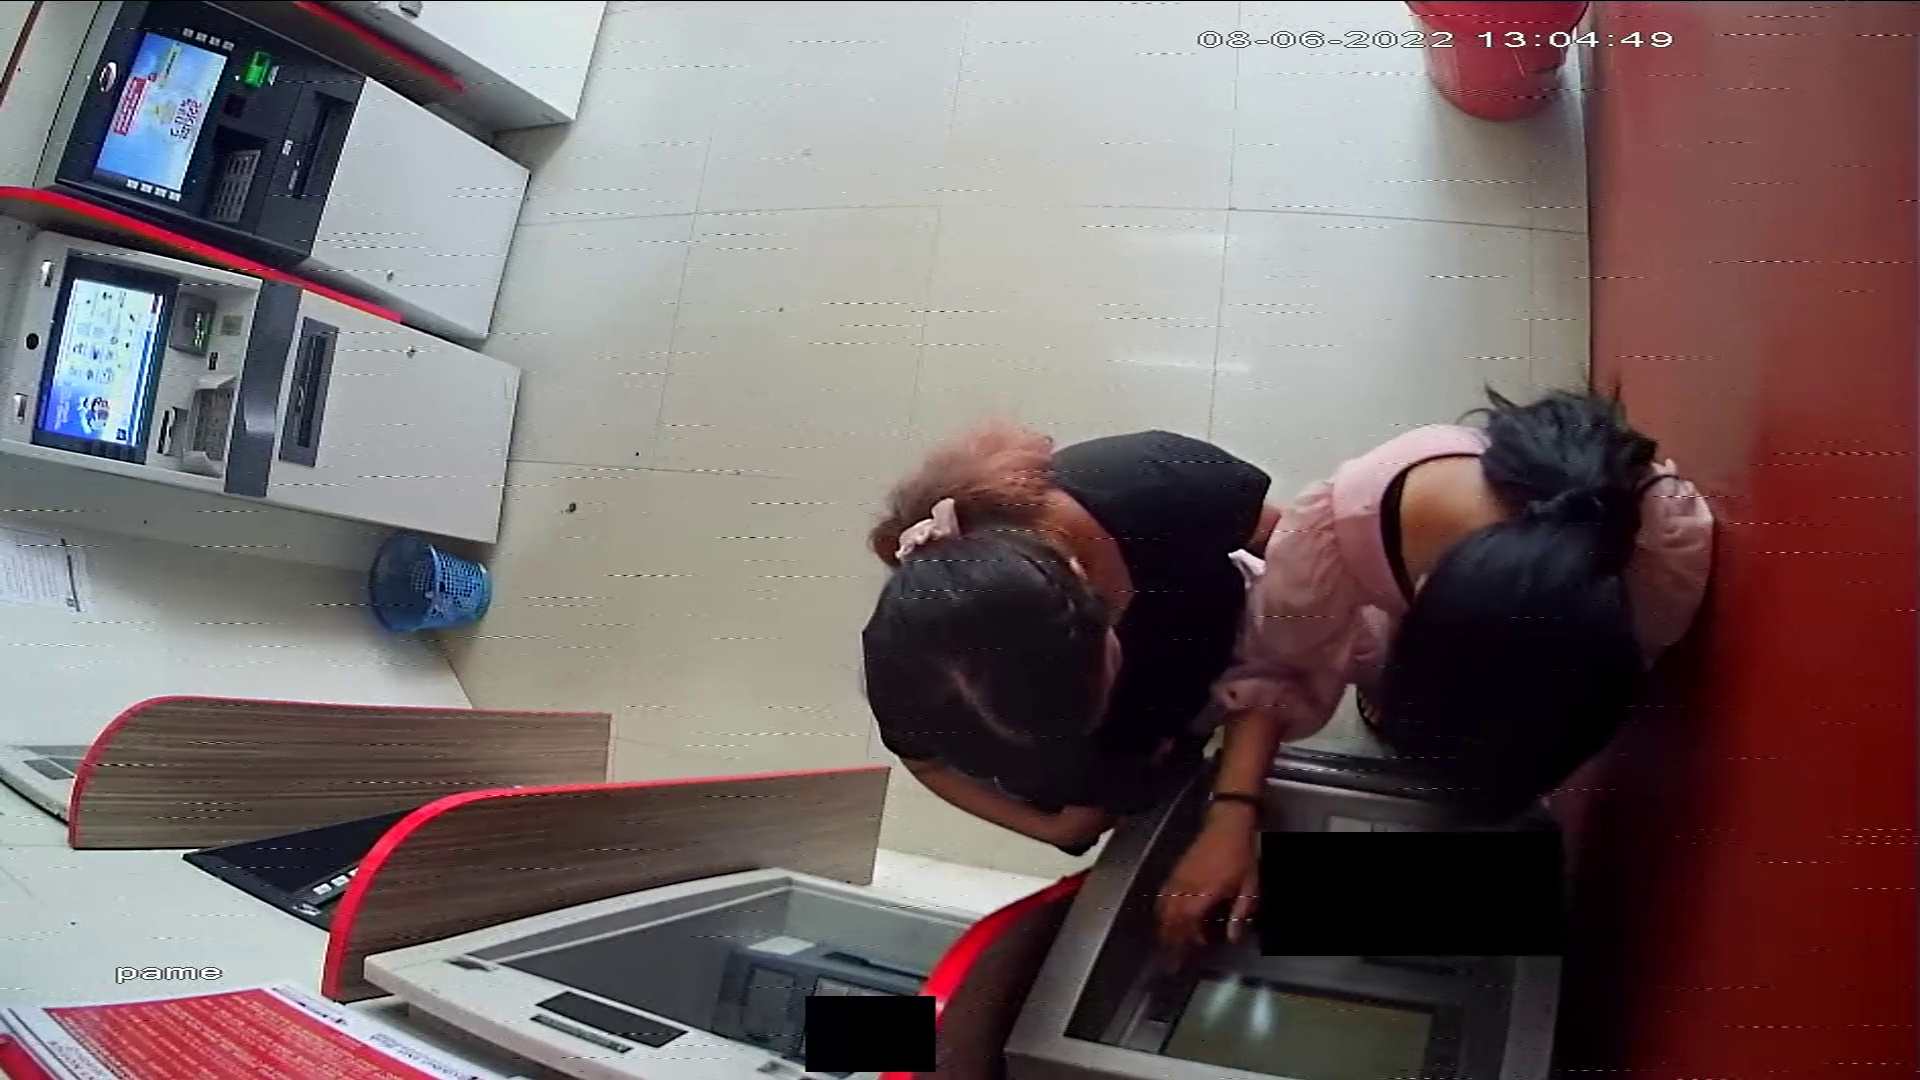person: (1152, 377, 1710, 950), (859, 425, 1294, 854)
